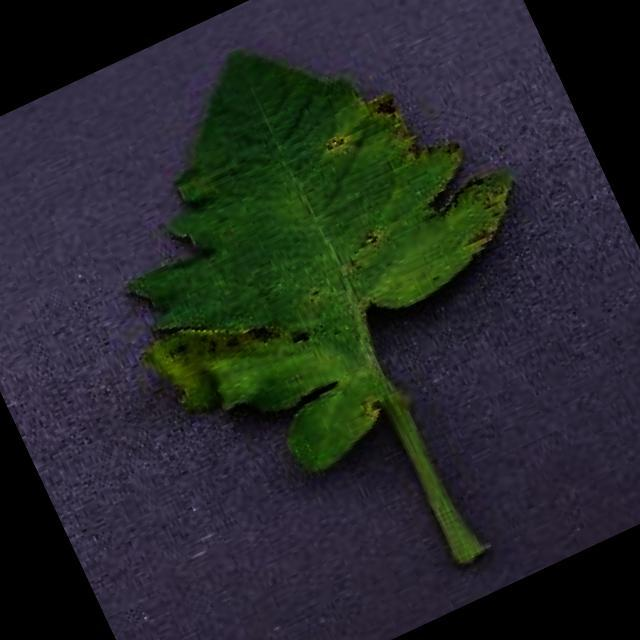Tomato Septoria spot leaf: (44, 0, 586, 516)
